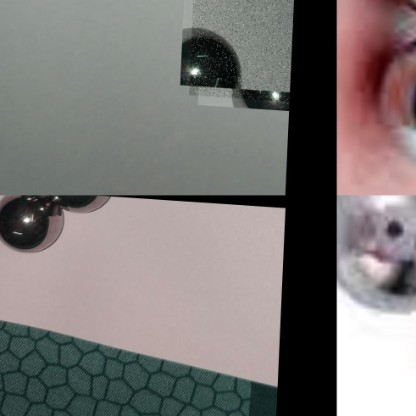ironball: (336, 195, 415, 332), (189, 0, 294, 96), (356, 25, 415, 176), (66, 350, 136, 415), (4, 193, 78, 252), (0, 374, 66, 415), (119, 398, 188, 415)
